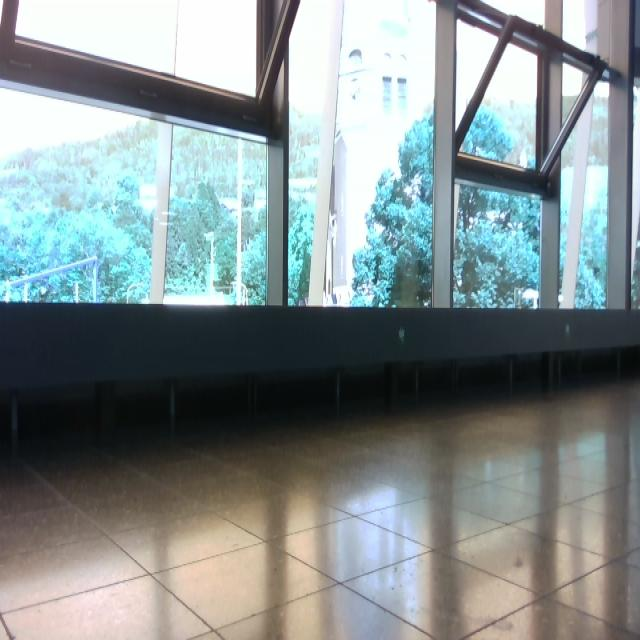pillar: (308, 1, 345, 306)
tiled floor: (1, 376, 640, 638)
window: (1, 1, 640, 313)
